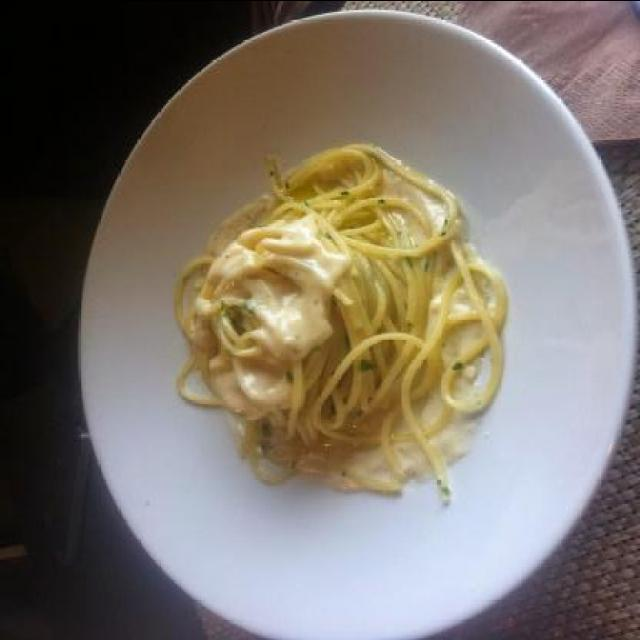Oil pasta: (137, 88, 520, 570)
